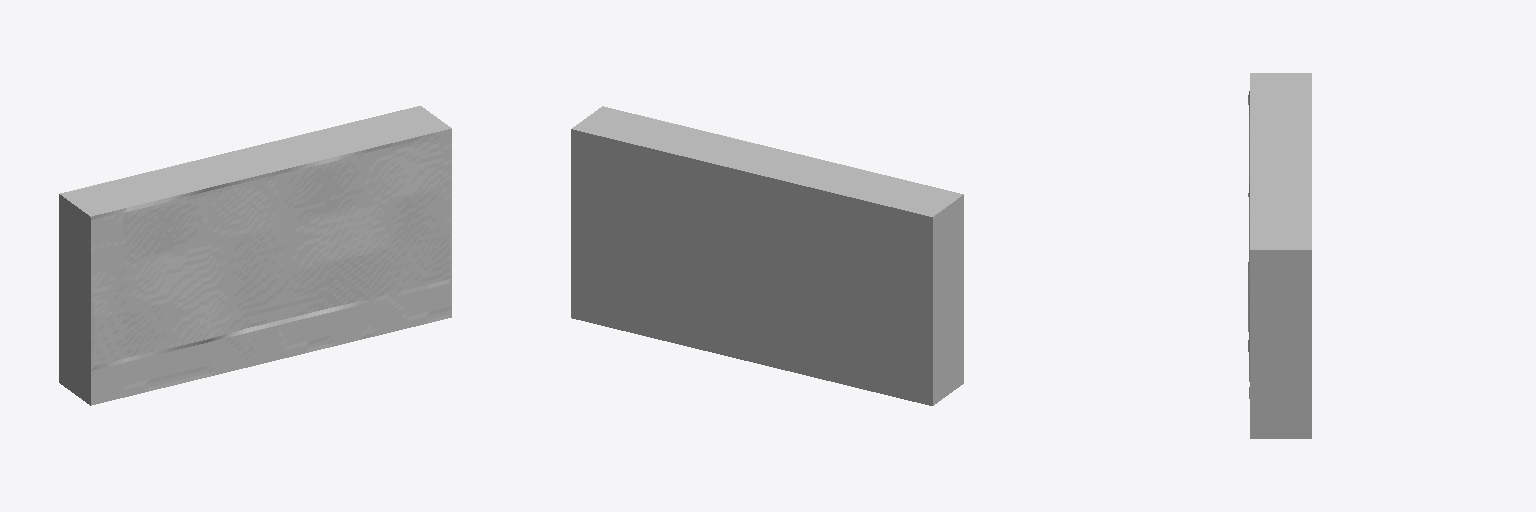
The model's file is rectangular_prism_bumps_7_5.obj.
The picture shows the model from 3 angles: view 1: azimuth 30°, elevation 25°; view 2: azimuth 150°, elevation 25°; view 3: azimuth 270°, elevation 25°; orthographic projection.
Size of the model in its own units: 10 by 5 by 1.54.